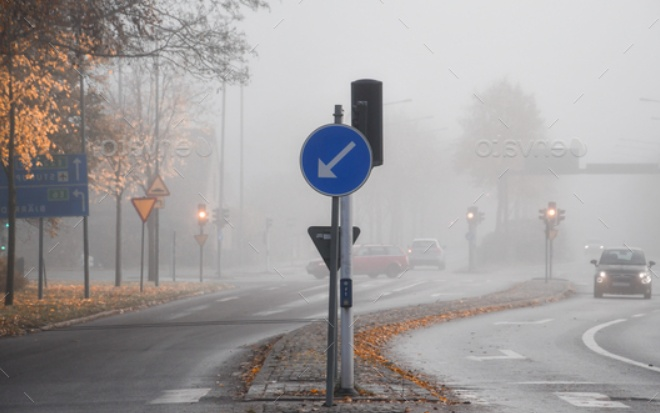Keep left: (295, 119, 376, 207)
